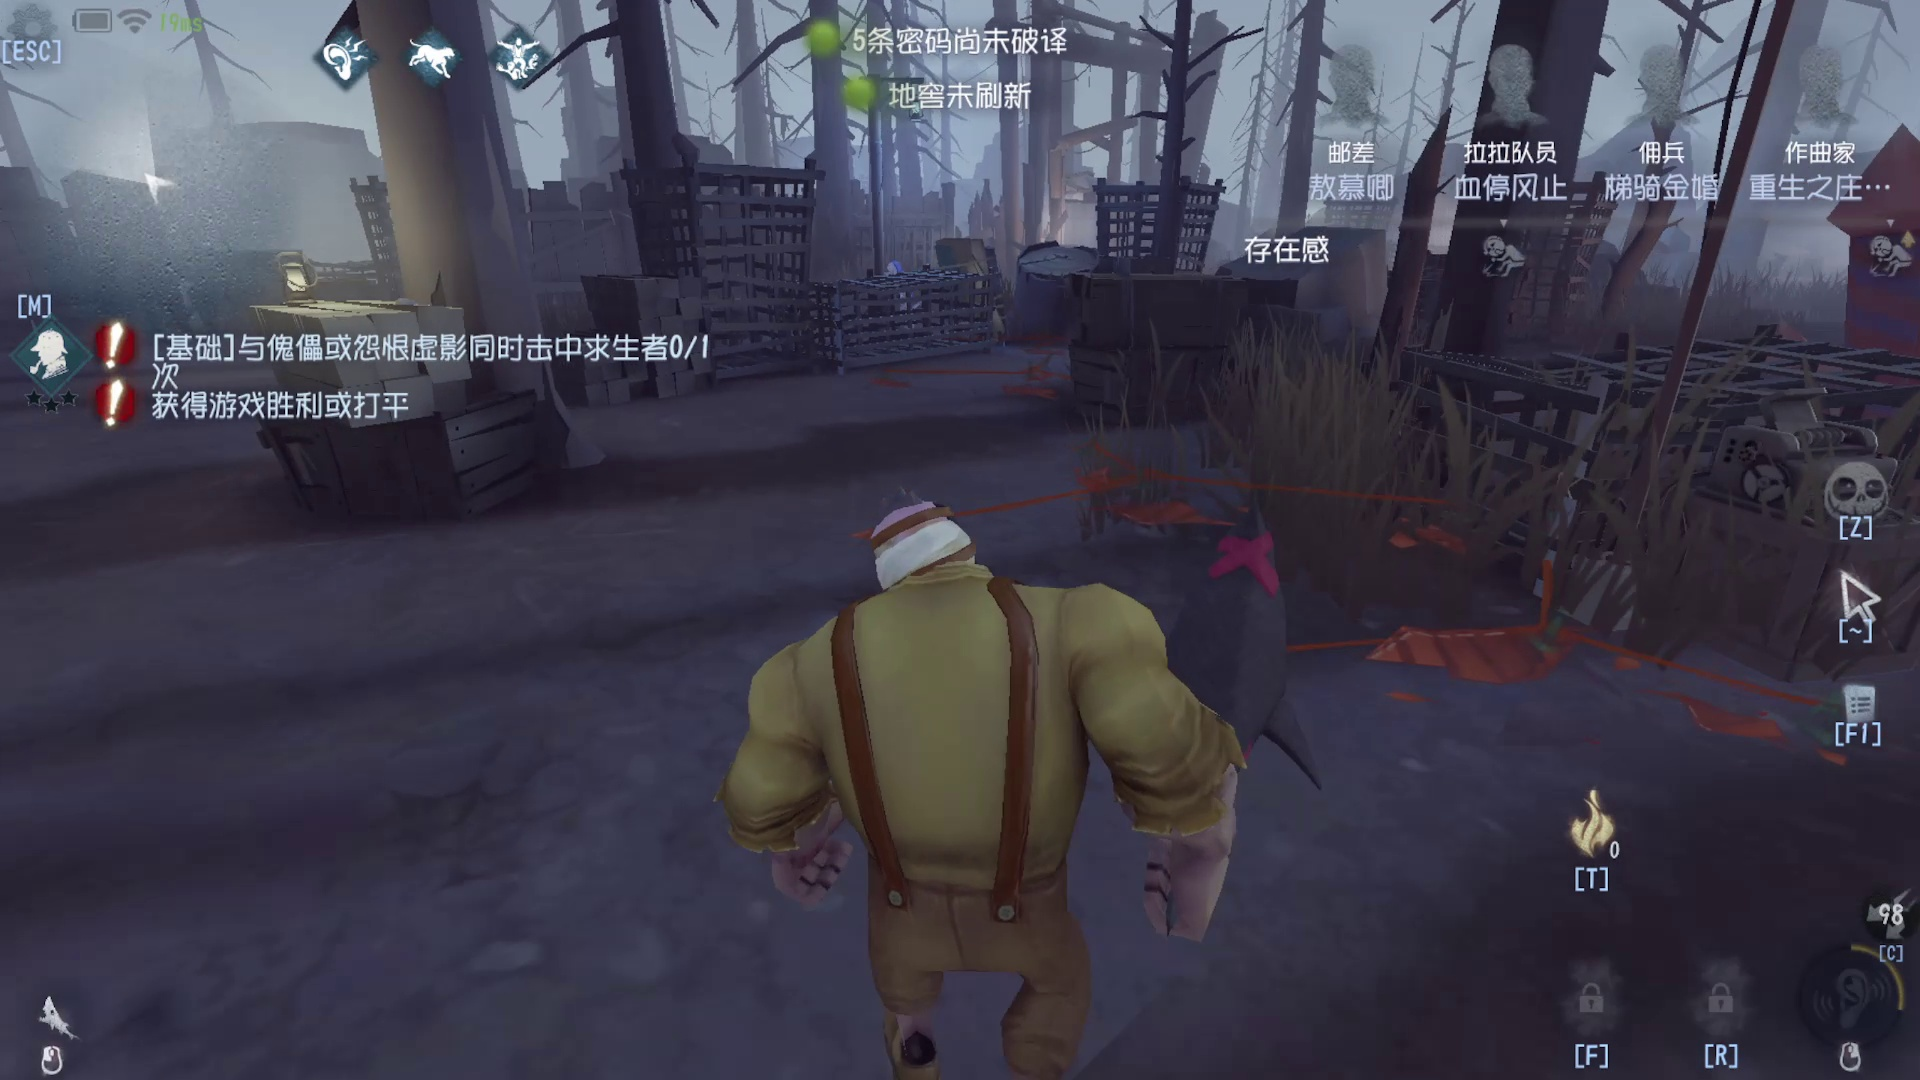木板: (928, 206, 1033, 336)
脚印: (975, 386, 1390, 580)
